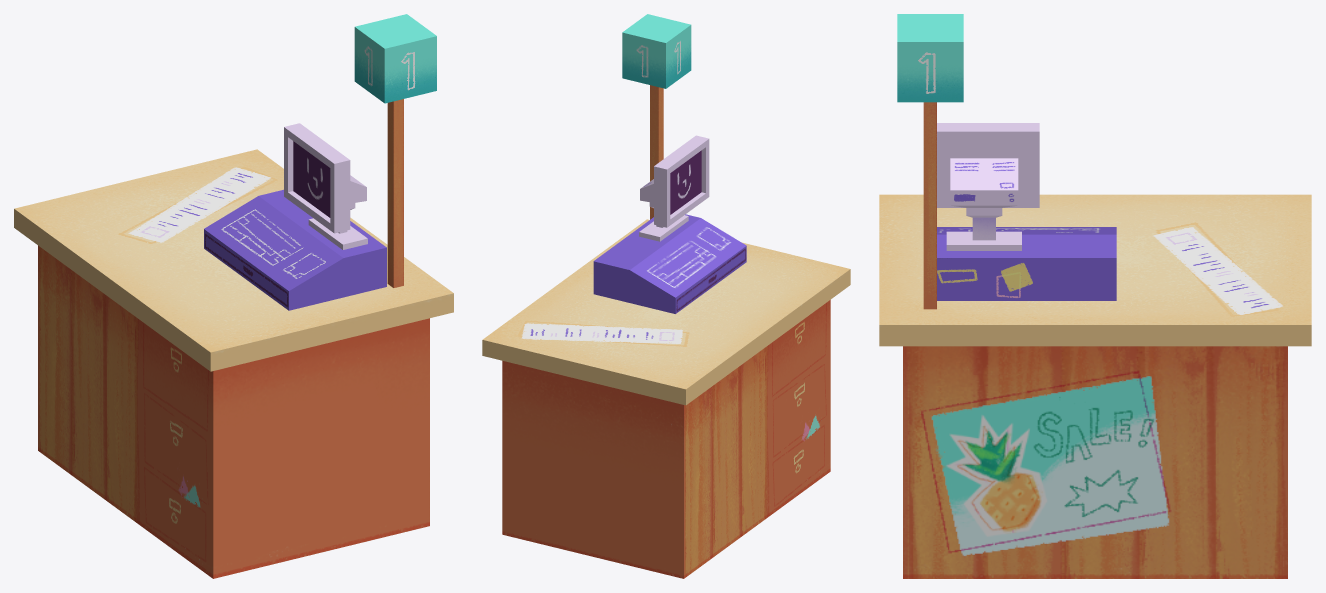
The model's file is cashier.obj.
3 views of the same model, side by side, from view 1: azimuth 30°, elevation 25°; view 2: azimuth 150°, elevation 25°; view 3: azimuth 270°, elevation 25° (orthographic). The views are drawn at different scales.
Parts seen in each view (by area): view 1: cashier_Cube.009; view 2: cashier_Cube.009; view 3: cashier_Cube.009.
Part boxes in pixels (x1,y1,x2,y2): cashier_Cube.009: (14,14,453,578); cashier_Cube.009: (482,14,850,578); cashier_Cube.009: (879,14,1311,578).
Size of the model in its own units: 5.61 by 10.81 by 7.85.
